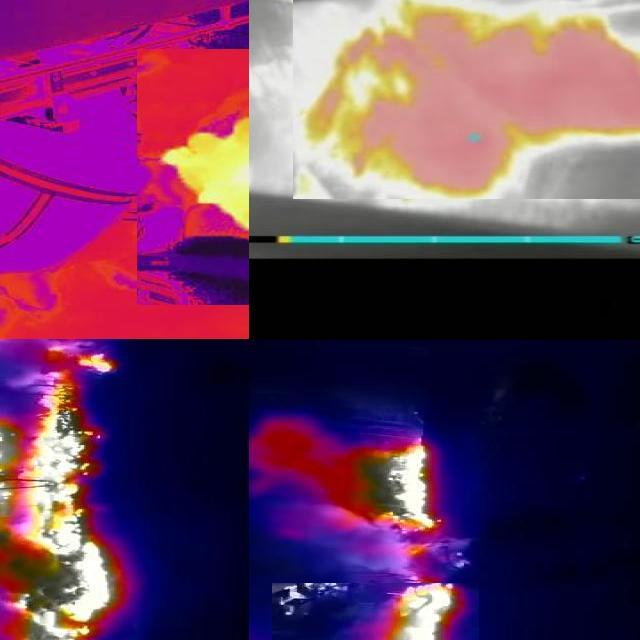fire: (300, 1, 640, 192), (1, 382, 128, 640), (161, 113, 252, 232), (360, 433, 451, 540), (386, 582, 458, 640), (45, 346, 127, 379)
